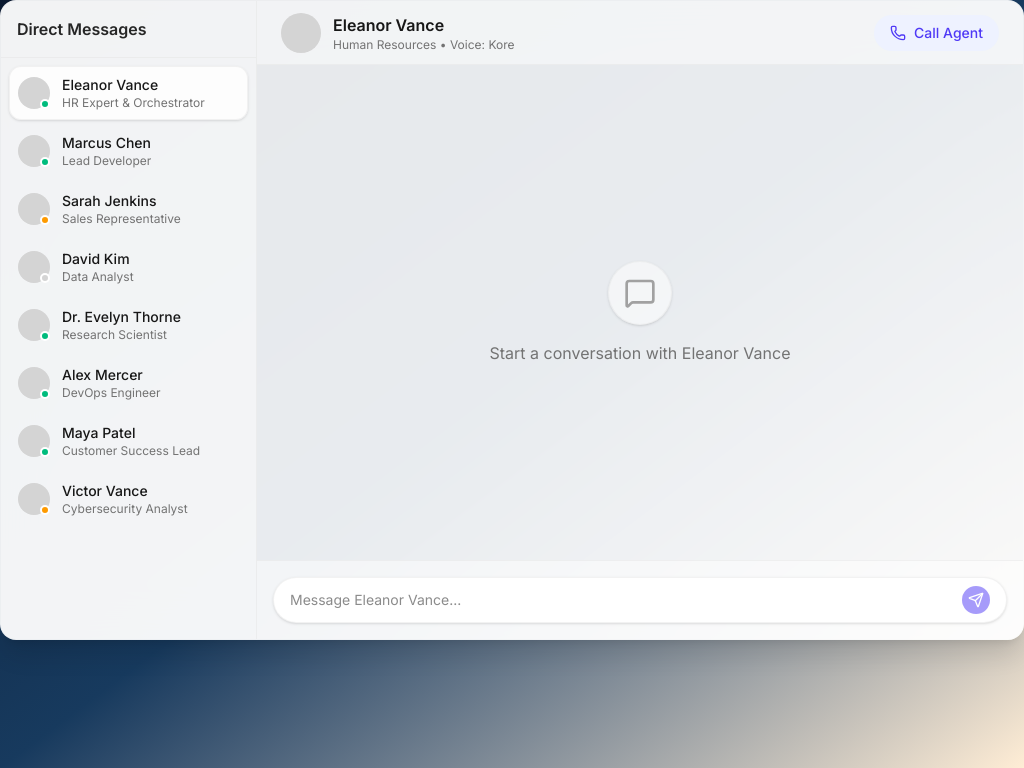
Test: Chat Component - Error Handling › handles startCall error correctly
The width and height of the screenshot is (1024, 768).
Click the button "Call Agent".
click(937, 32)  # box [874,14,999,50]
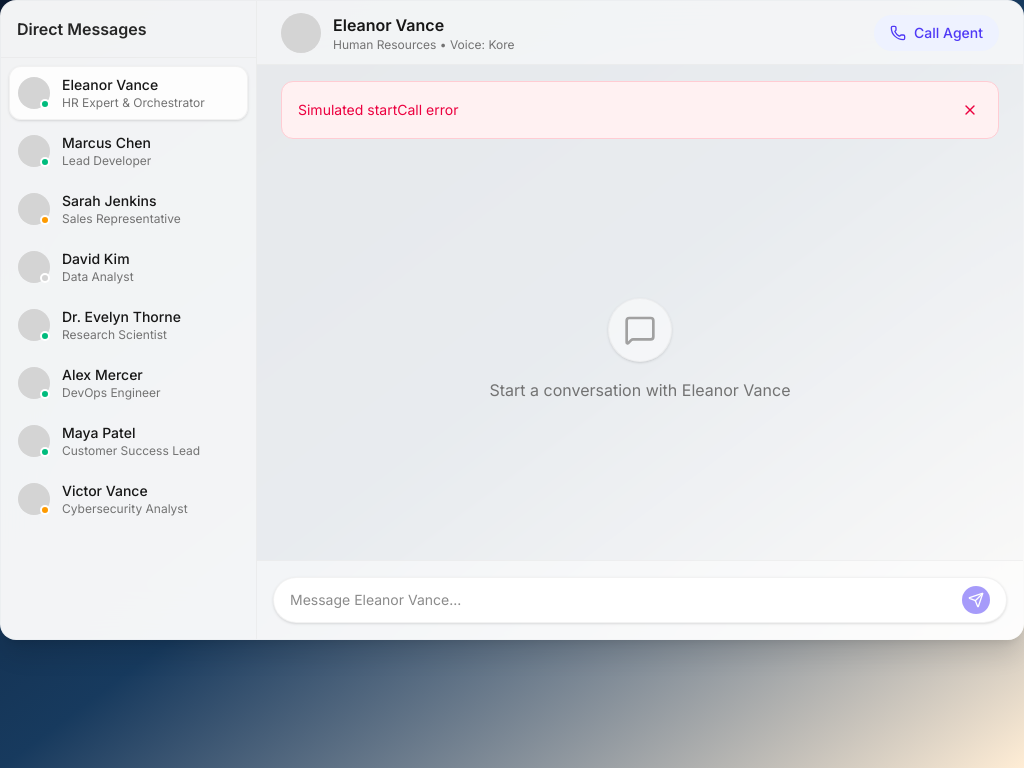
Check: the text "Simulated startCall error" is shown, box [298,100,458,120]
